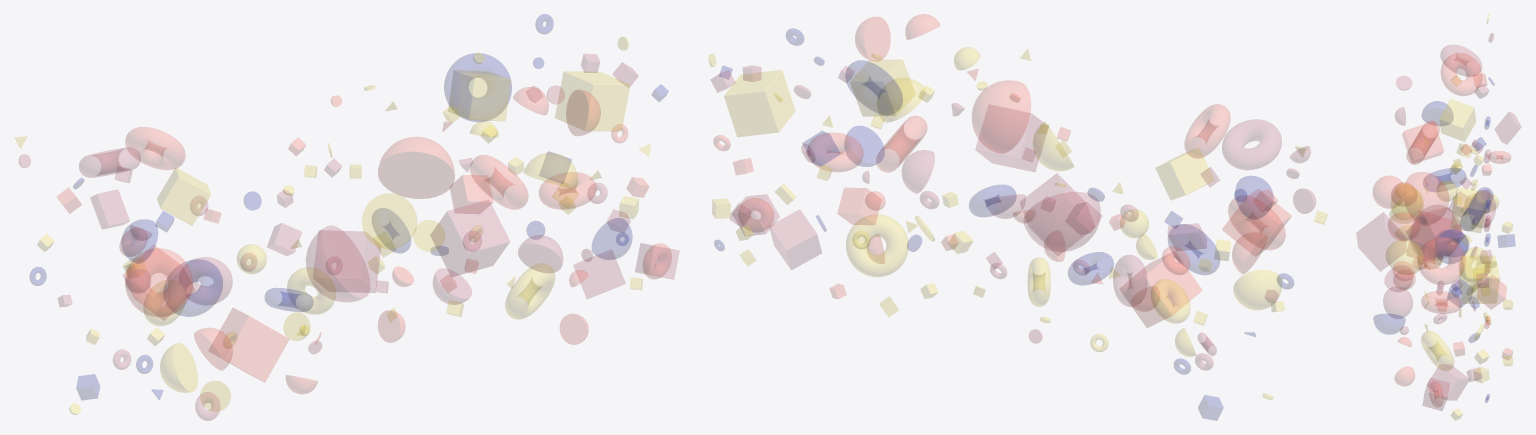
The picture shows the model from 3 angles, left to right: view 1: azimuth 30°, elevation 25°; view 2: azimuth 150°, elevation 25°; view 3: azimuth 270°, elevation 25°; orthographic projection. The views are drawn at different scales.
Visible parts, largest first — view 1: Chaos Scatter005_converted_Box102, Chaos Scatter005_converted_Torus109 (×2), Chaos Scatter005_converted_Sphere068, Chaos Scatter005_converted_Box103, Chaos Scatter005_converted_Box133, Chaos Scatter005_converted_Sphere081, Chaos Scatter005_converted_Torus140, Chaos Scatter005_converted_Box125, Chaos Scatter005_converted_Torus139, Chaos Scatter005_converted_Box098, Chaos Scatter005_converted_Box106, Chaos Scatter005_converted_Sphere067 (+31 smaller); view 2: Chaos Scatter005_converted_Box103, Chaos Scatter005_converted_Sphere081, Chaos Scatter005_converted_Box125, Chaos Scatter005_converted_Box102, Chaos Scatter005_converted_Sphere068, Chaos Scatter005_converted_Torus109 (×2), Chaos Scatter005_converted_Box133, Chaos Scatter005_converted_Box106, Chaos Scatter005_converted_Torus114, Chaos Scatter005_converted_Torus108, Chaos Scatter005_converted_Torus140, Chaos Scatter005_converted_Box098 (+28 smaller); view 3: Chaos Scatter005_converted_Torus109 (×2), Chaos Scatter005_converted_Box102, Chaos Scatter005_converted_Box103, Chaos Scatter005_converted_Sphere068, Chaos Scatter005_converted_Box133, Chaos Scatter005_converted_Box106, Chaos Scatter005_converted_Box098, Chaos Scatter005_converted_Sphere081, Chaos Scatter005_converted_Box099, Chaos Scatter005_converted_Sphere066, Chaos Scatter005_converted_Torus108, Chaos Scatter005_converted_Box105 (+31 smaller).
Part boxes in pixels (x1=…): Chaos Scatter005_converted_Box102: x1=430, y1=200, x2=509, y2=276; Chaos Scatter005_converted_Torus109 (×2): x1=125, y1=127, x2=528, y2=209; Chaos Scatter005_converted_Sphere068: x1=378, y1=137, x2=454, y2=198; Chaos Scatter005_converted_Box103: x1=555, y1=71, x2=629, y2=131; Chaos Scatter005_converted_Box133: x1=313, y1=230, x2=380, y2=292; Chaos Scatter005_converted_Sphere081: x1=306, y1=225, x2=369, y2=301; Chaos Scatter005_converted_Torus140: x1=444, y1=53, x2=511, y2=121; Chaos Scatter005_converted_Box125: x1=209, y1=308, x2=288, y2=382; Chaos Scatter005_converted_Torus139: x1=125, y1=248, x2=192, y2=316; Chaos Scatter005_converted_Box098: x1=123, y1=245, x2=194, y2=320; Chaos Scatter005_converted_Box106: x1=448, y1=70, x2=510, y2=120; Chaos Scatter005_converted_Sphere067: x1=362, y1=193, x2=416, y2=248; Chaos Scatter005_converted_Box103: x1=724, y1=70, x2=794, y2=136; Chaos Scatter005_converted_Sphere081: x1=1023, y1=192, x2=1100, y2=251; Chaos Scatter005_converted_Box125: x1=1120, y1=253, x2=1201, y2=327; Chaos Scatter005_converted_Box102: x1=975, y1=105, x2=1046, y2=171; Chaos Scatter005_converted_Sphere068: x1=972, y1=80, x2=1030, y2=153; Chaos Scatter005_converted_Torus109 (×2): x1=876, y1=104, x2=1230, y2=172; Chaos Scatter005_converted_Box133: x1=1020, y1=173, x2=1085, y2=255; Chaos Scatter005_converted_Box106: x1=850, y1=59, x2=914, y2=116; Chaos Scatter005_converted_Torus114: x1=846, y1=214, x2=907, y2=276; Chaos Scatter005_converted_Torus108: x1=1222, y1=119, x2=1281, y2=169; Chaos Scatter005_converted_Torus140: x1=845, y1=60, x2=902, y2=114; Chaos Scatter005_converted_Box098: x1=1222, y1=189, x2=1291, y2=256; Chaos Scatter005_converted_Torus109 (×2): x1=1418, y1=53, x2=1481, y2=284; Chaos Scatter005_converted_Box102: x1=1356, y1=212, x2=1406, y2=271; Chaos Scatter005_converted_Box103: x1=1458, y1=256, x2=1499, y2=303; Chaos Scatter005_converted_Sphere068: x1=1404, y1=172, x2=1448, y2=225; Chaos Scatter005_converted_Box133: x1=1406, y1=207, x2=1463, y2=257; Chaos Scatter005_converted_Box106: x1=1451, y1=187, x2=1486, y2=232; Chaos Scatter005_converted_Box098: x1=1402, y1=121, x2=1443, y2=163; Chaos Scatter005_converted_Sphere081: x1=1410, y1=205, x2=1461, y2=260; Chaos Scatter005_converted_Box099: x1=1439, y1=99, x2=1475, y2=141; Chaos Scatter005_converted_Sphere066: x1=1386, y1=240, x2=1423, y2=274; Chaos Scatter005_converted_Torus108: x1=1440, y1=45, x2=1481, y2=76; Chaos Scatter005_converted_Box105: x1=1427, y1=364, x2=1469, y2=400.
Size of the model in its own units: 2.62 by 1.16 by 0.8497.
